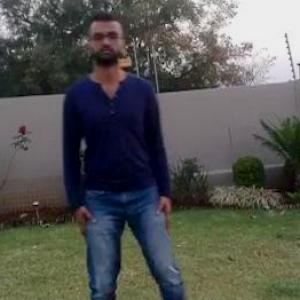follow: (64, 18, 168, 299)
